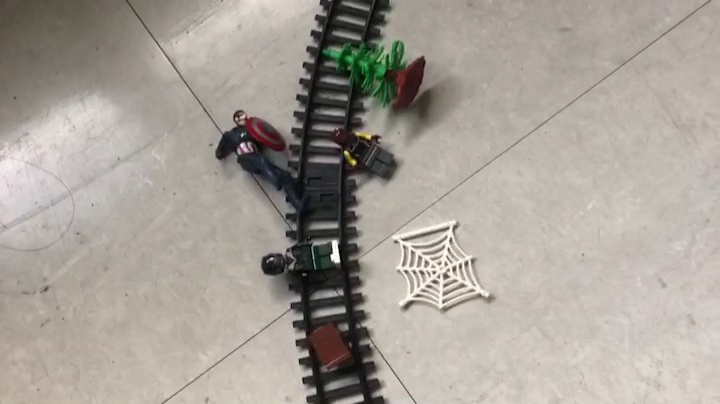box: (306, 321, 357, 373)
people: (216, 108, 312, 214), (258, 236, 339, 283), (330, 126, 397, 180)
tree: (322, 41, 429, 114)
web: (392, 220, 493, 312)
